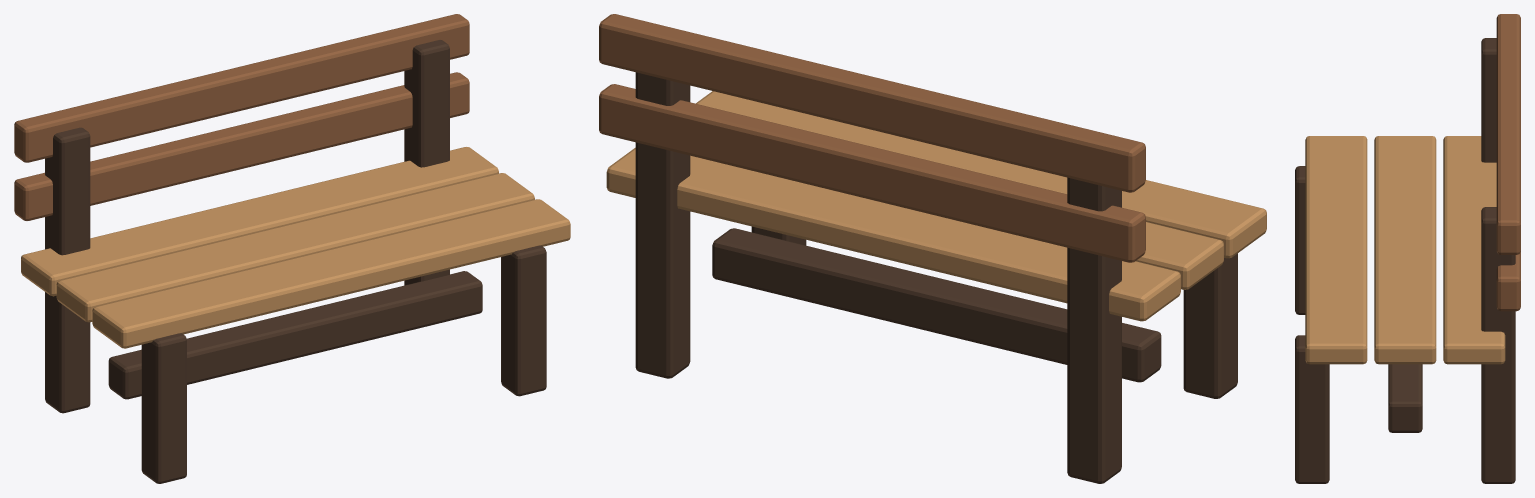
File: watch_bench.glb
3 renders of one model, left to right at view 1: azimuth 30°, elevation 25°; view 2: azimuth 150°, elevation 25°; view 3: azimuth 270°, elevation 25°, orthographic. The views are drawn at different scales.
Parts seen in each view (by area): view 1: watch_bench__structure; view 2: watch_bench__structure; view 3: watch_bench__structure.
Part boxes in pixels (x1,y1,x2,y2): watch_bench__structure: (14, 14, 570, 483); watch_bench__structure: (599, 14, 1266, 483); watch_bench__structure: (1295, 14, 1520, 483).
Size of the model in its own units: 1.45 by 0.885 by 0.655.
